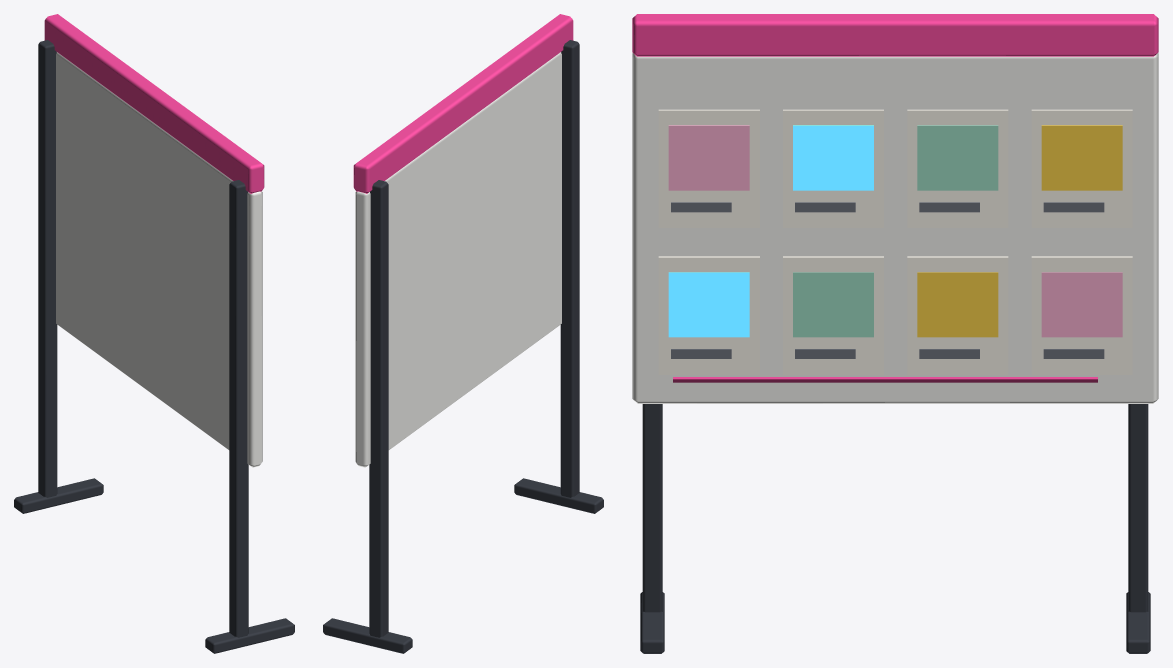
Rendered from station_intake_ausstattung_1_2.glb.
3 renders of one model, left to right at view 1: azimuth 30°, elevation 25°; view 2: azimuth 150°, elevation 25°; view 3: azimuth 270°, elevation 25°, orthographic. The views are drawn at different scales.
Parts seen in each view (by area): view 1: station_intake_ausstattung_1_2; view 2: station_intake_ausstattung_1_2; view 3: station_intake_ausstattung_1_2.
Part boxes in pixels (x1,y1,x2,y2): station_intake_ausstattung_1_2: (14, 14, 294, 653); station_intake_ausstattung_1_2: (323, 14, 603, 653); station_intake_ausstattung_1_2: (632, 14, 1158, 653).
Size of the model in its own units: 0.3 by 1.67 by 1.3.
